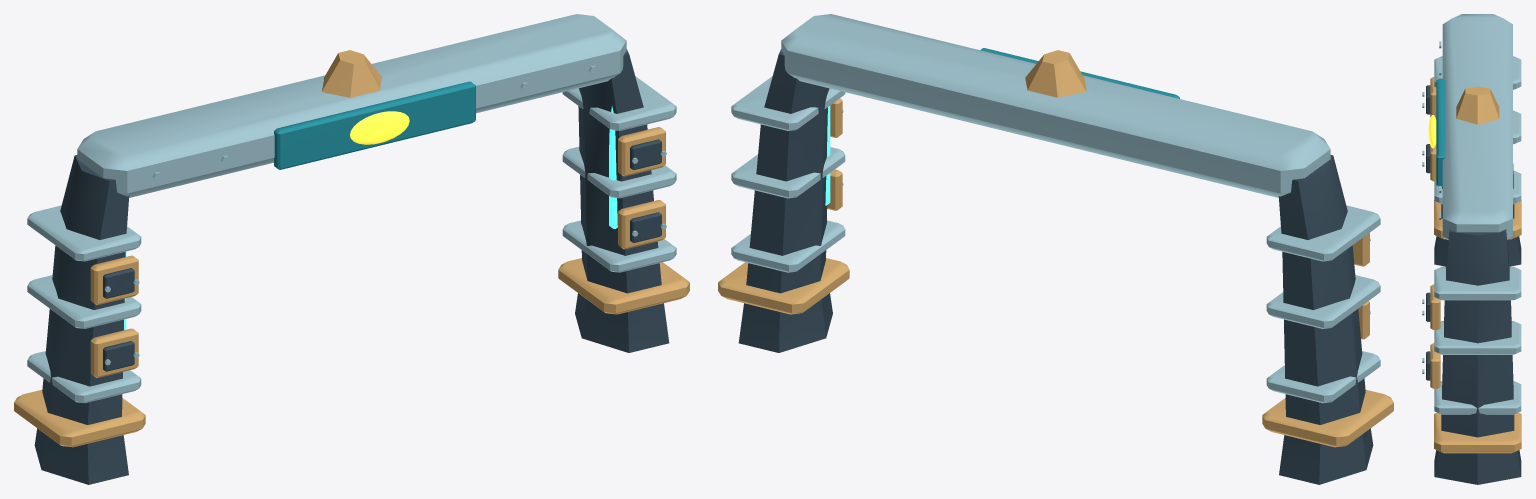
File: RelicGate.glb
The picture shows the model from 3 angles, left to right: view 1: azimuth 30°, elevation 25°; view 2: azimuth 150°, elevation 25°; view 3: azimuth 270°, elevation 25°; orthographic projection. The views are drawn at different scales.
Parts seen in each view (by area): view 1: arch; view 2: arch; view 3: arch.
Part boxes in pixels (left/top/right/bottom): arch: left=14, top=14, right=689, bottom=484; arch: left=718, top=14, right=1393, bottom=484; arch: left=1422, top=14, right=1521, bottom=484.
Size of the model in its own units: 9.68 by 4.95 by 1.64.
